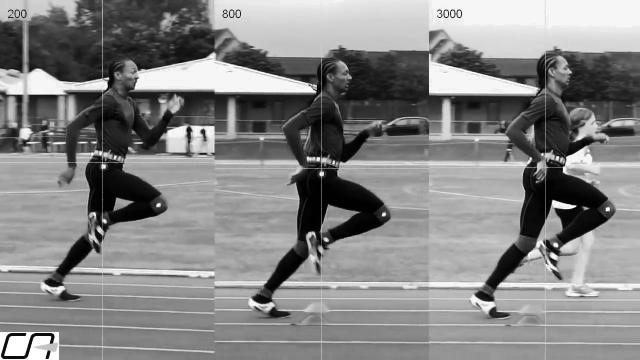berlari: (460, 49, 610, 325), (242, 50, 394, 320), (33, 49, 184, 300)
